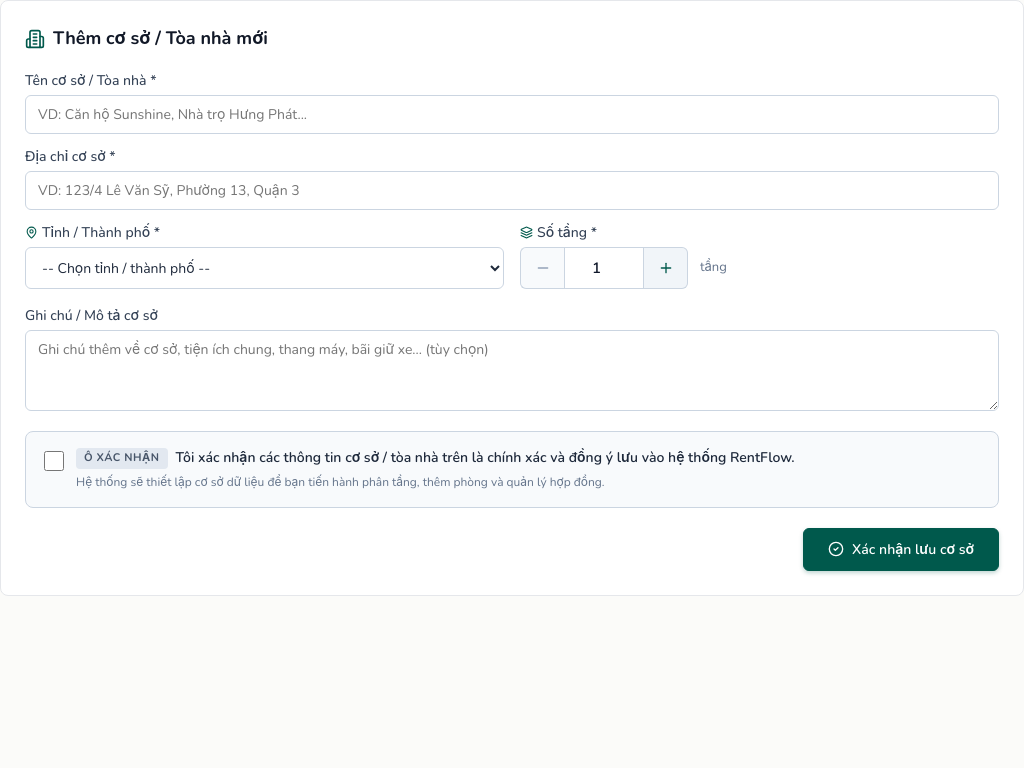
PropertyForm Validation › validates required fields on submission in Vietnamese
The image size is (1024, 768).
Click the button "Xác nhận lưu cơ sở": (901, 549) x1=803 y1=528 x2=999 y2=570
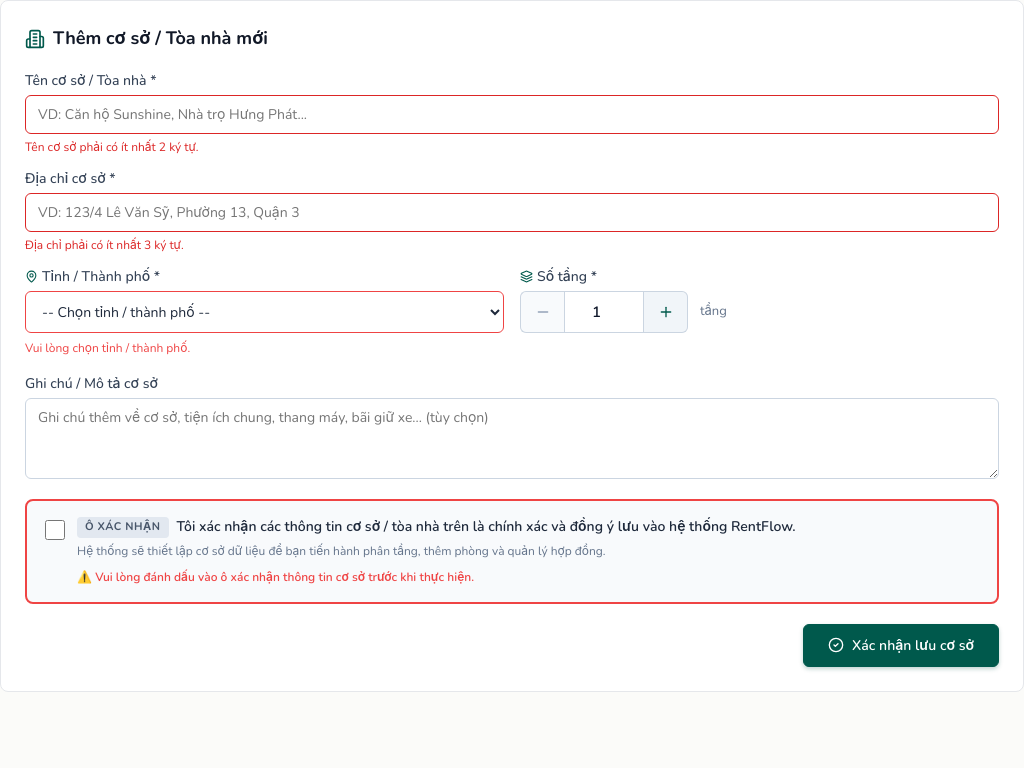
Now the text "Tên cơ sở phải có ít nhất 2 ký tự." is shown, box x1=25 y1=139 x2=199 y2=155
Now the text "Địa chỉ phải có ít nhất 3 ký tự." is shown, box x1=25 y1=237 x2=184 y2=253
Now the text "Vui lòng chọn tỉnh / thành phố." is shown, box x1=25 y1=340 x2=190 y2=356
